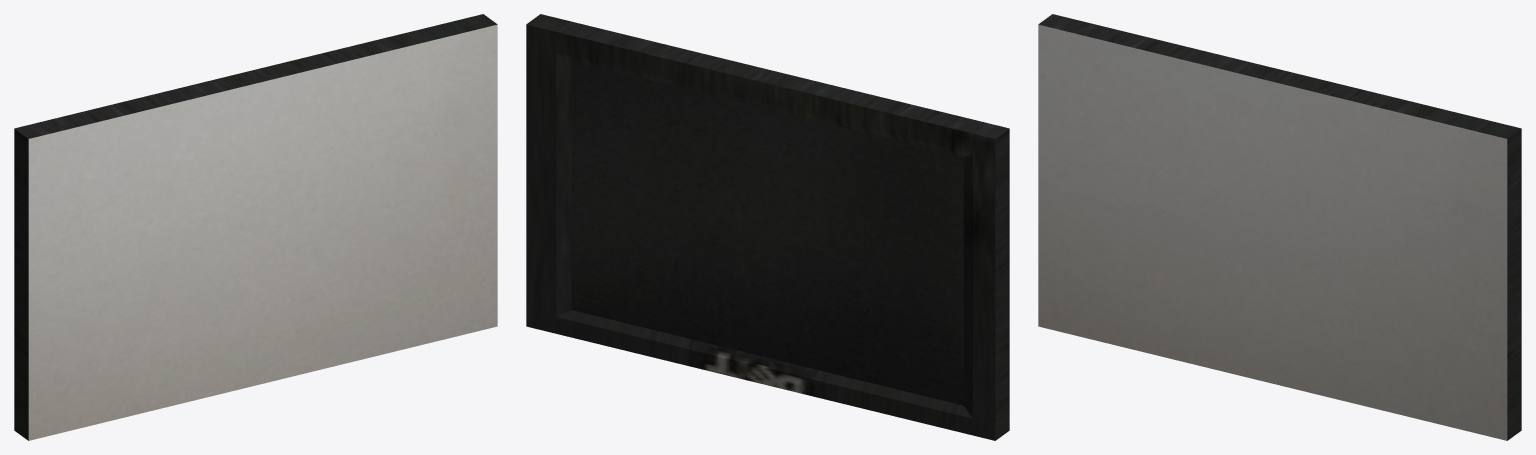
The picture shows the model from 3 angles, left to right: view 1: azimuth 30°, elevation 25°; view 2: azimuth 150°, elevation 25°; view 3: azimuth 330°, elevation 25°; orthographic projection.
Visible parts, largest first — view 1: Box001; view 2: screen, Box001; view 3: Box001.
Boxes of the visible parts, left/top/right/bottom form: Box001: left=14, top=14, right=497, bottom=440; screen: left=571, top=61, right=963, bottom=405; Box001: left=526, top=14, right=1009, bottom=440; Box001: left=1038, top=14, right=1521, bottom=440.
Bounding box in the file's own units: 27.81 × 17.1 × 1.48.
2 materials, 2 textured.
